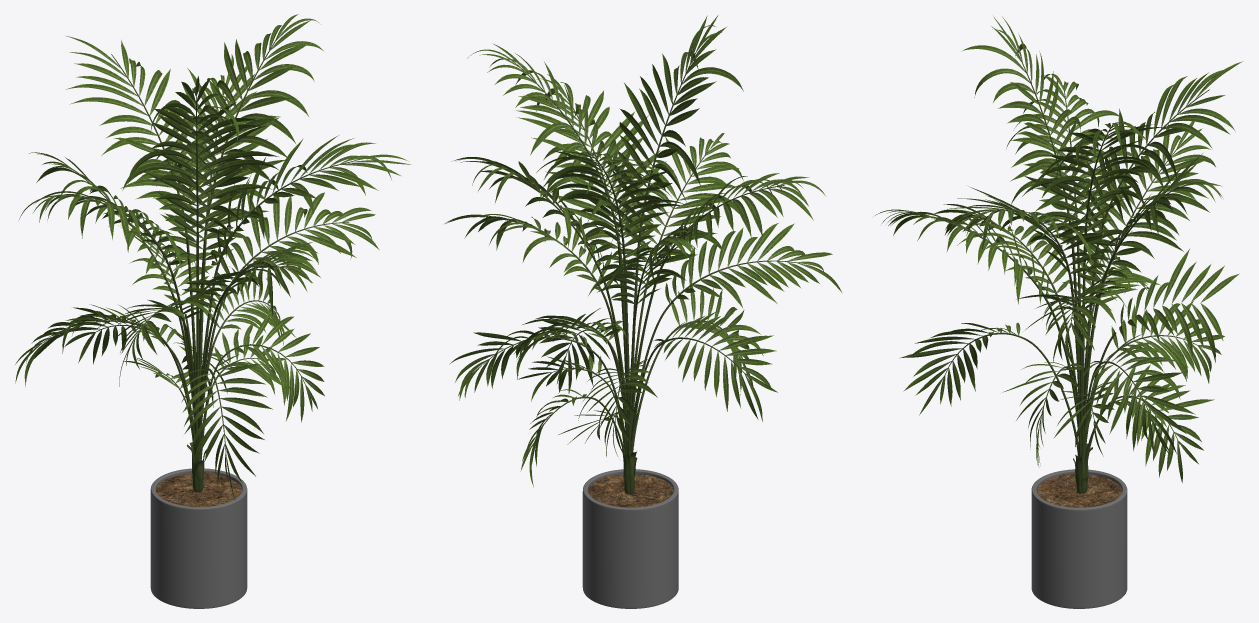
File: Erica_Plant_Pot.glb
3 renders of one model, left to right at view 1: azimuth 30°, elevation 25°; view 2: azimuth 150°, elevation 25°; view 3: azimuth 270°, elevation 25°, orthographic.
Parts seen in each view (by area): view 1: vgtZ4006, vgtZ4003, vgtZ4004; view 2: vgtZ4006, vgtZ4003, vgtZ4004; view 3: vgtZ4006, vgtZ4003, vgtZ4004.
Boxes of the visible parts, x1,y1,x2,y2 form: vgtZ4006: (15,14,410,500); vgtZ4003: (150,468,247,608); vgtZ4004: (156,472,241,506); vgtZ4006: (444,15,841,494); vgtZ4003: (582,469,678,608); vgtZ4004: (588,474,673,507); vgtZ4006: (875,16,1242,493); vgtZ4003: (1031,469,1127,608); vgtZ4004: (1036,474,1122,507).
Size of the model in its own units: 0.7243 by 1.05 by 0.645.
Materials: 6 (5 with a texture image).
